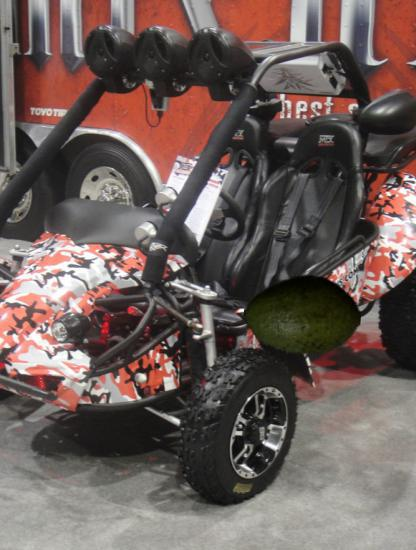Avocado: (244, 255, 361, 372)
